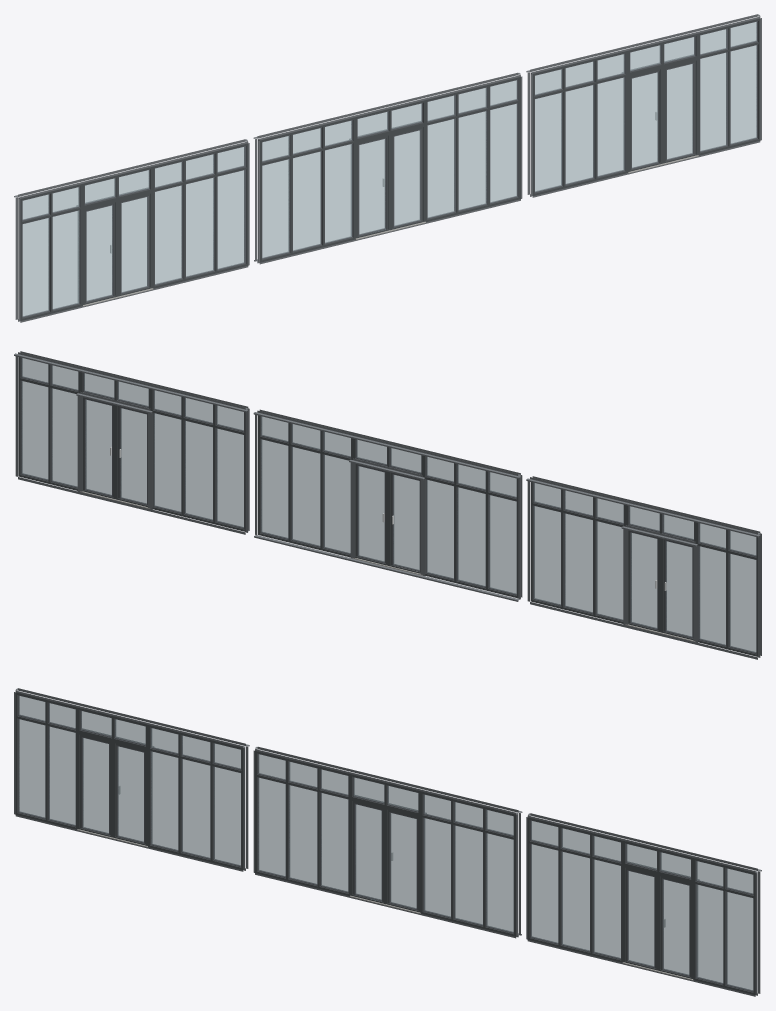
Rendered from Nave1_ABERTURAS_fachada_larga_al_piso.dae.
3 renders of one model, top to bottom at view 1: azimuth 30°, elevation 25°; view 2: azimuth 150°, elevation 25°; view 3: azimuth 330°, elevation 25°, orthographic.
Visible parts, largest first — view 1: Vidrio (×6), Perfil aluminio (×6), Junquillo (×6), Contramarco (×3); view 2: Vidrio (×6), Contramarco (×6), Perfil aluminio (×6), Junquillo (×6); view 3: Vidrio (×6), Perfil aluminio (×6), Junquillo (×6), Contramarco (×3).
Boxes of the visible parts, bbox=[...] form: Vidrio (×6): bbox=[22, 22, 756, 316]; Perfil aluminio (×6): bbox=[20, 18, 760, 321]; Junquillo (×6): bbox=[22, 21, 757, 318]; Contramarco (×3): bbox=[14, 14, 761, 322]; Vidrio (×6): bbox=[21, 358, 756, 652]; Contramarco (×6): bbox=[14, 351, 761, 659]; Perfil aluminio (×6): bbox=[18, 357, 757, 656]; Junquillo (×6): bbox=[20, 357, 756, 653]; Vidrio (×6): bbox=[19, 696, 753, 990]; Perfil aluminio (×6): bbox=[15, 692, 755, 995]; Junquillo (×6): bbox=[18, 695, 753, 992]; Contramarco (×3): bbox=[14, 688, 761, 996].
Bounding box in the file's own units: 19.12 × 0.215 × 3.12.
